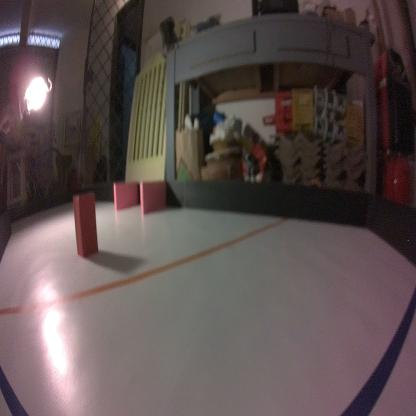magenta: (138, 177, 167, 218), (112, 180, 142, 210)
red: (72, 190, 100, 262)
